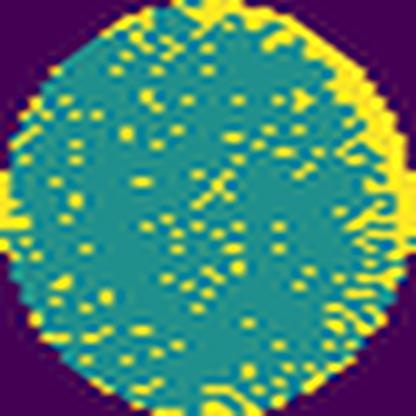Edge-Loc: (191, 0, 415, 259)
